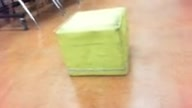cube: (55, 8, 127, 77)
